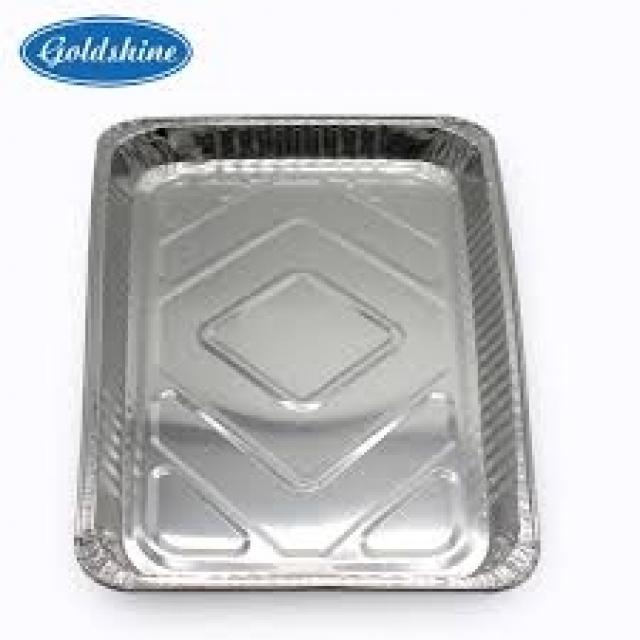metal: (71, 117, 540, 594)
